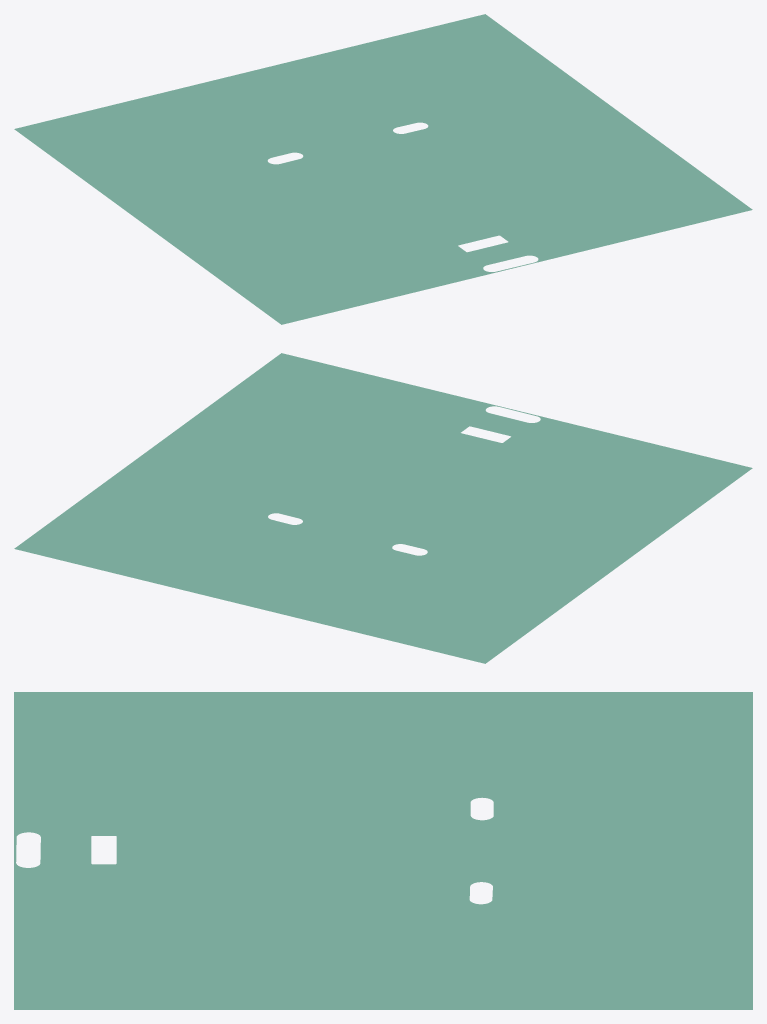
The model's file is green_plastic_background.fbx.
3 renders of one model, top to bottom at view 1: azimuth 30°, elevation 25°; view 2: azimuth 150°, elevation 25°; view 3: azimuth 270°, elevation 25°, orthographic. The views are drawn at different scales.
Parts seen in each view (by area): view 1: Cube.026; view 2: Cube.026; view 3: Cube.026.
Boxes of the visible parts, x1,y1,x2,y2 form: Cube.026: (14, 14, 752, 324); Cube.026: (14, 353, 752, 663); Cube.026: (14, 692, 752, 1009).
Size of the model in its own units: 190 by 3.05e-05 by 187.
